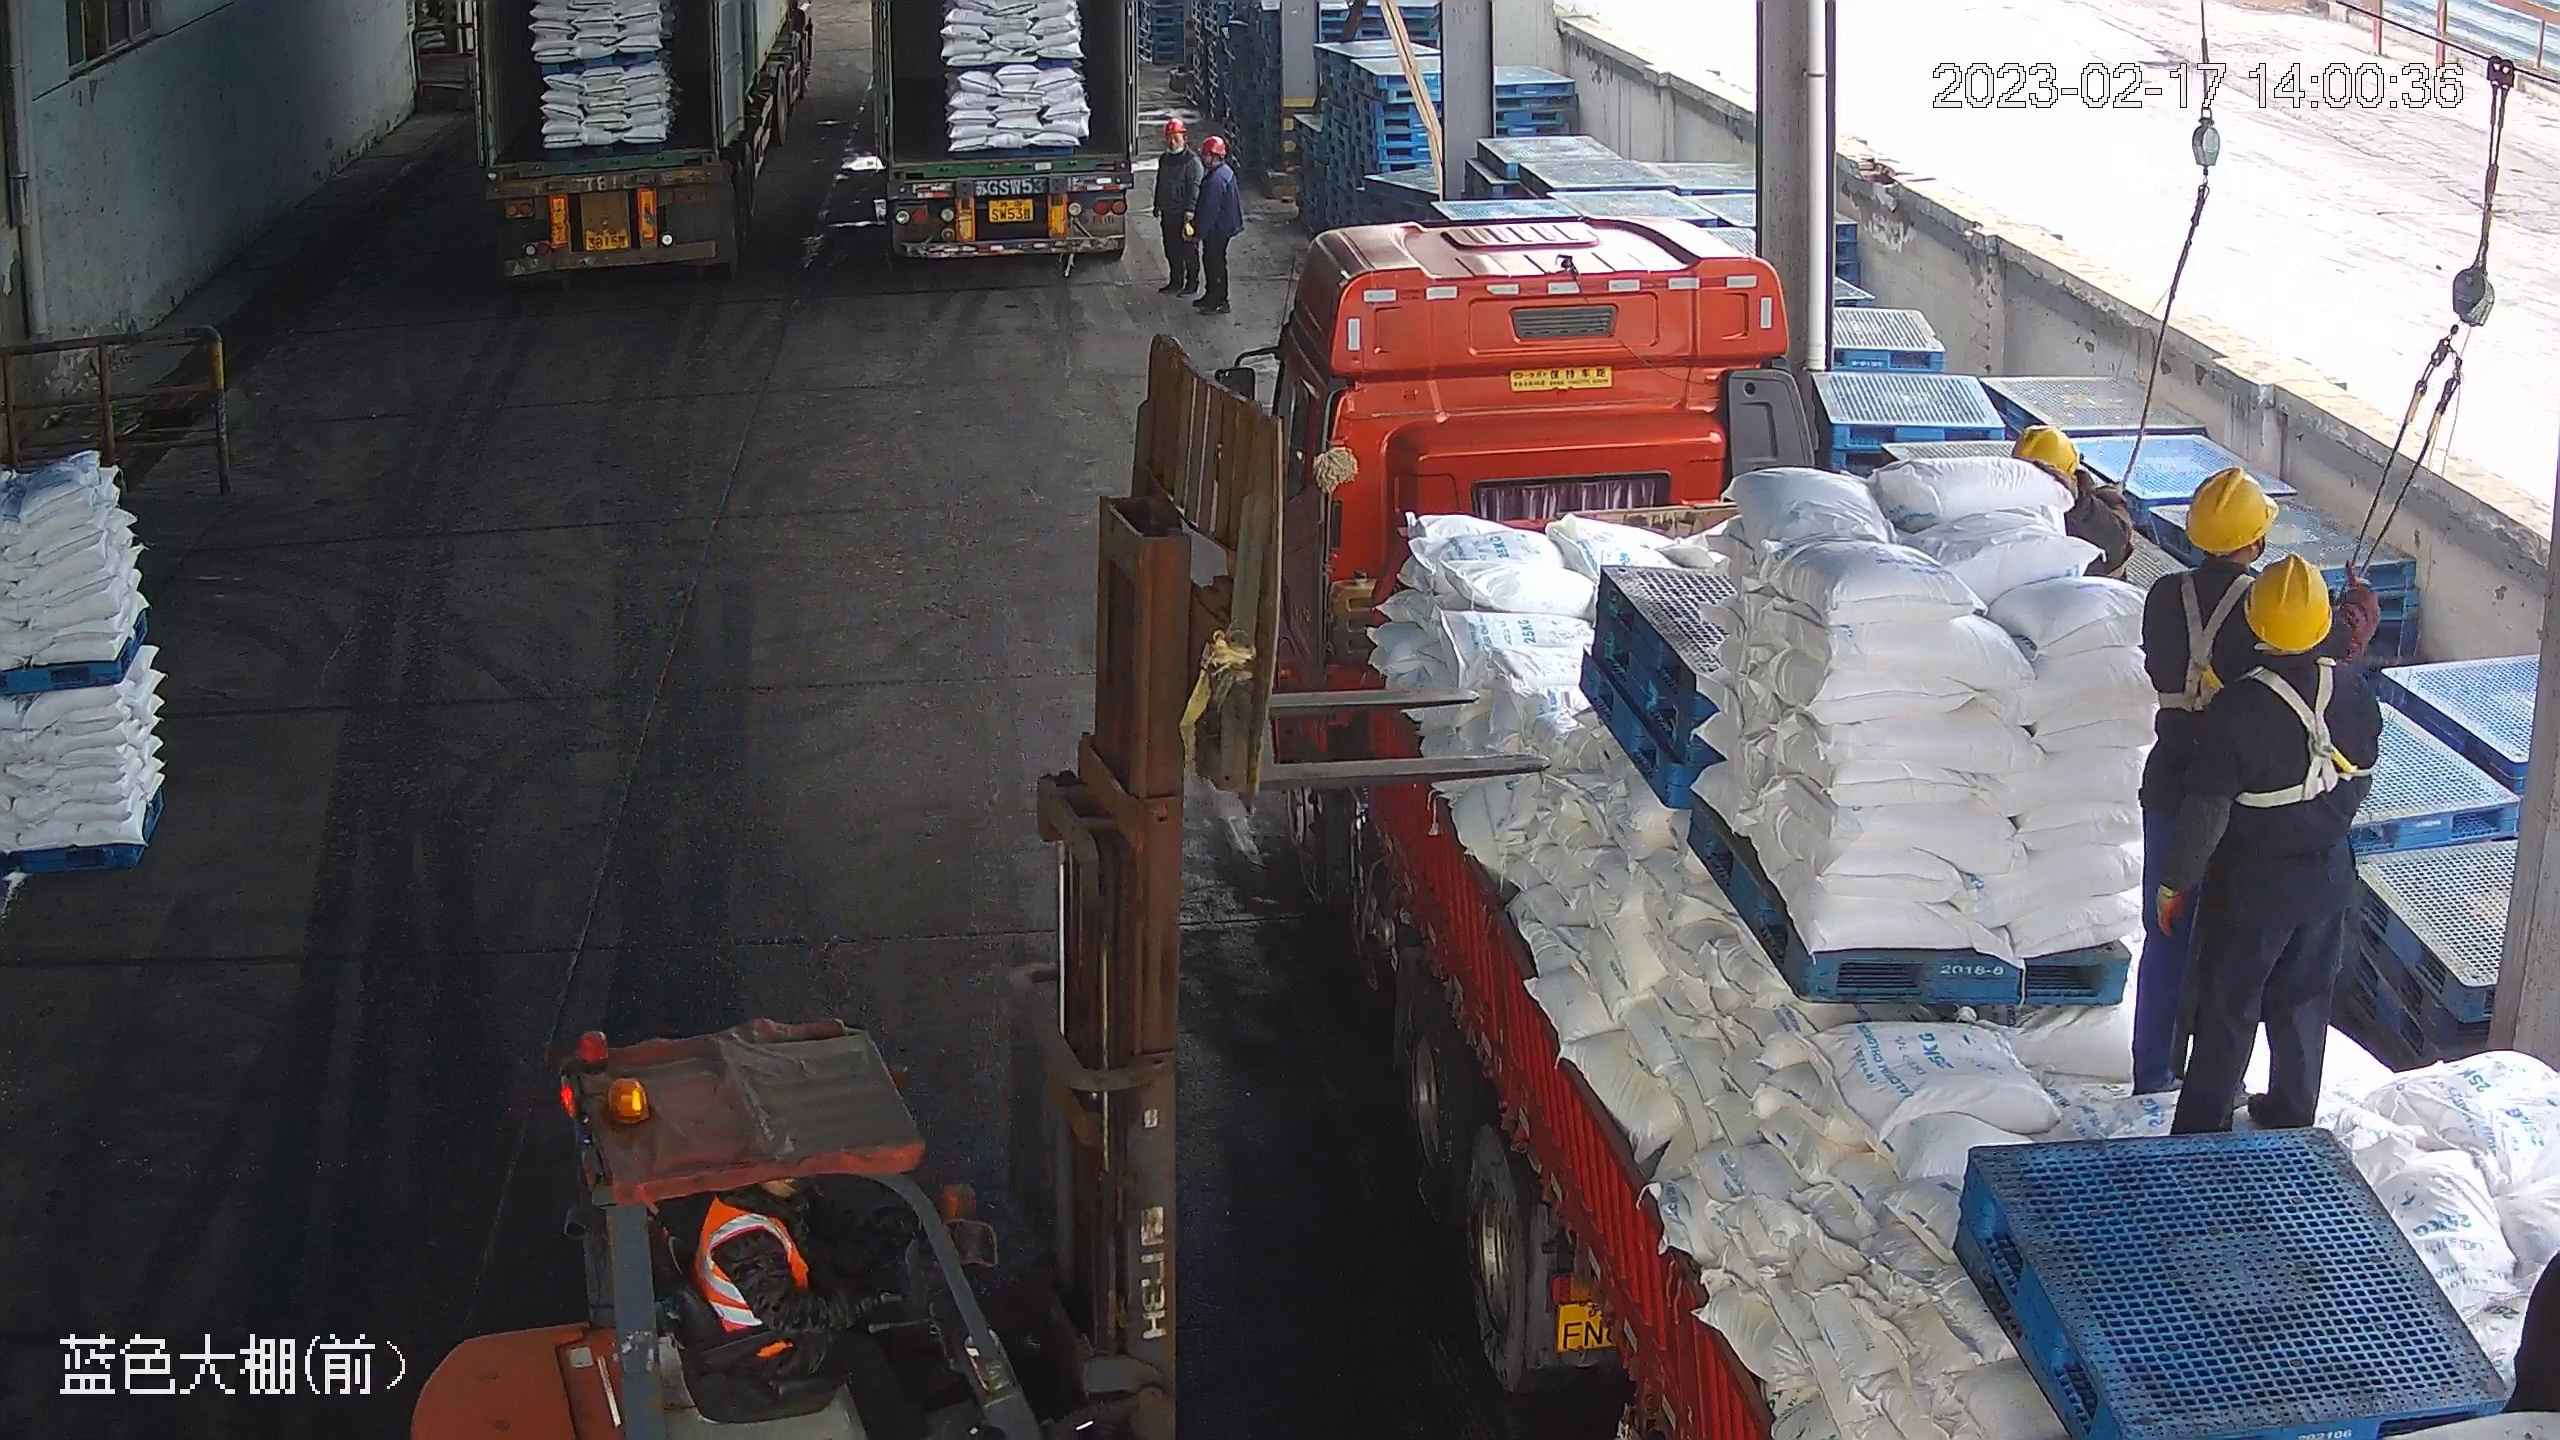belt: (2234, 654, 2367, 815), (2153, 558, 2258, 709), (2085, 466, 2157, 565)
head: (2187, 561, 2380, 761), (2144, 465, 2290, 649), (2017, 421, 2147, 556), (1149, 118, 1197, 176), (1192, 135, 1237, 193)
helmet: (2246, 551, 2334, 651), (2180, 463, 2272, 552), (2009, 419, 2080, 485), (1160, 116, 1188, 135), (1199, 134, 1225, 153)
people: (2144, 567, 2380, 1137), (690, 1179, 969, 1439), (1187, 132, 1242, 319), (1148, 122, 1196, 294)
truck: (1159, 200, 2550, 1436), (467, 2, 818, 283), (854, 3, 1146, 275)
